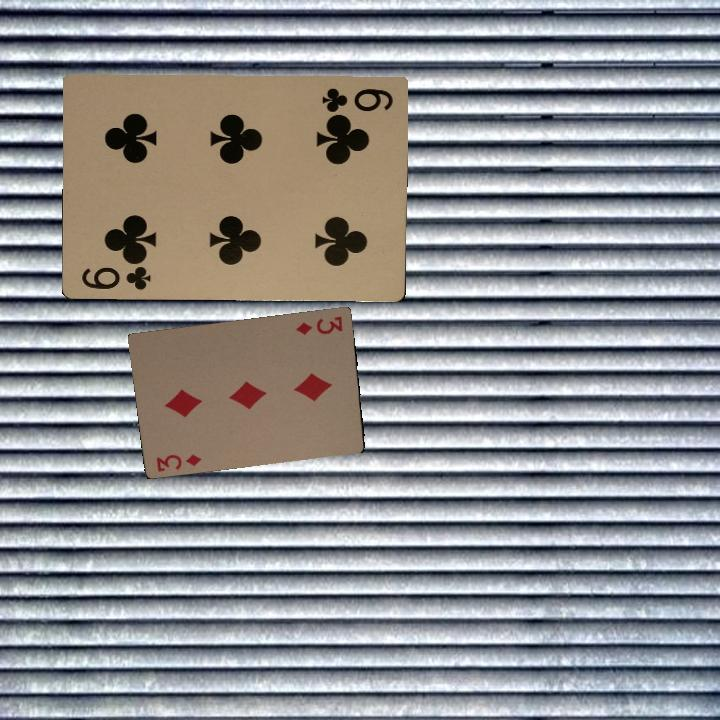3d: (291, 312, 345, 337), (152, 450, 204, 474)
6c: (78, 256, 154, 293), (318, 83, 395, 115)
